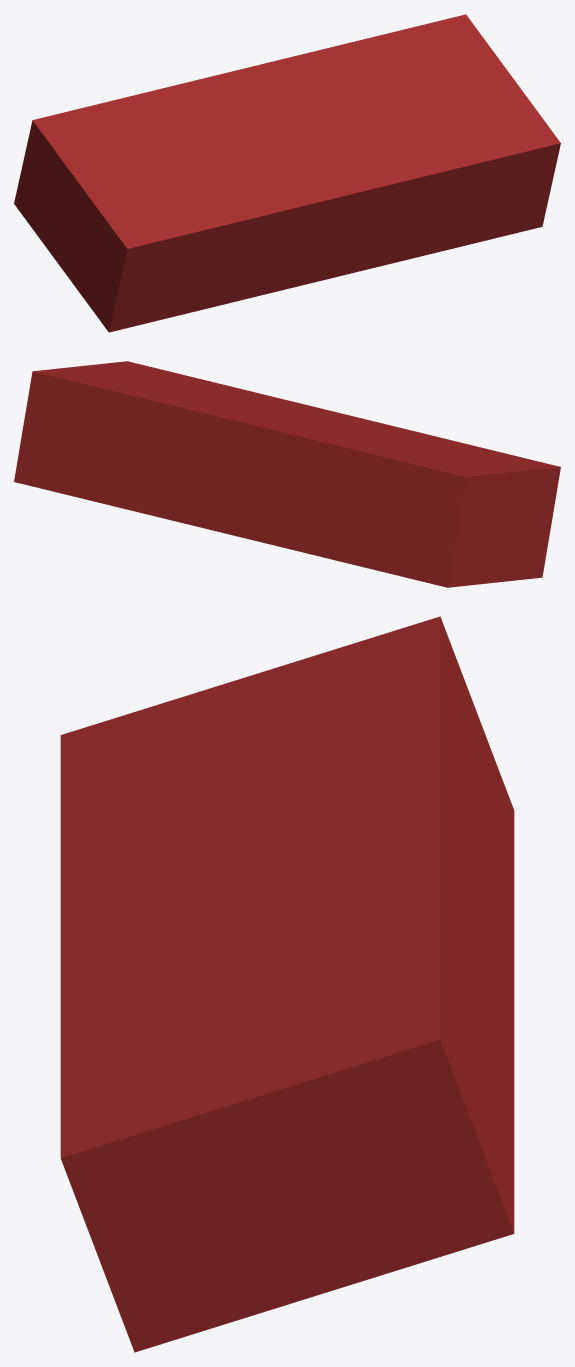
File: Asian_Prop_Building_Modular_Roof_Beam_05.FBX
3 views of the same model, one above another, from view 1: azimuth 30°, elevation 25°; view 2: azimuth 150°, elevation 25°; view 3: azimuth 270°, elevation 25° (orthographic). The views are drawn at different scales.
Visible parts, largest first — view 1: Asian_Prop_Building_Modular_Roof_Beam_05; view 2: Asian_Prop_Building_Modular_Roof_Beam_05; view 3: Asian_Prop_Building_Modular_Roof_Beam_05.
Part boxes in pixels (x1,y1,x2,y2): Asian_Prop_Building_Modular_Roof_Beam_05: [14, 14, 560, 332]; Asian_Prop_Building_Modular_Roof_Beam_05: [14, 361, 560, 587]; Asian_Prop_Building_Modular_Roof_Beam_05: [60, 616, 514, 1352].
Size of the model in its own units: 1085 by 374 by 492.
